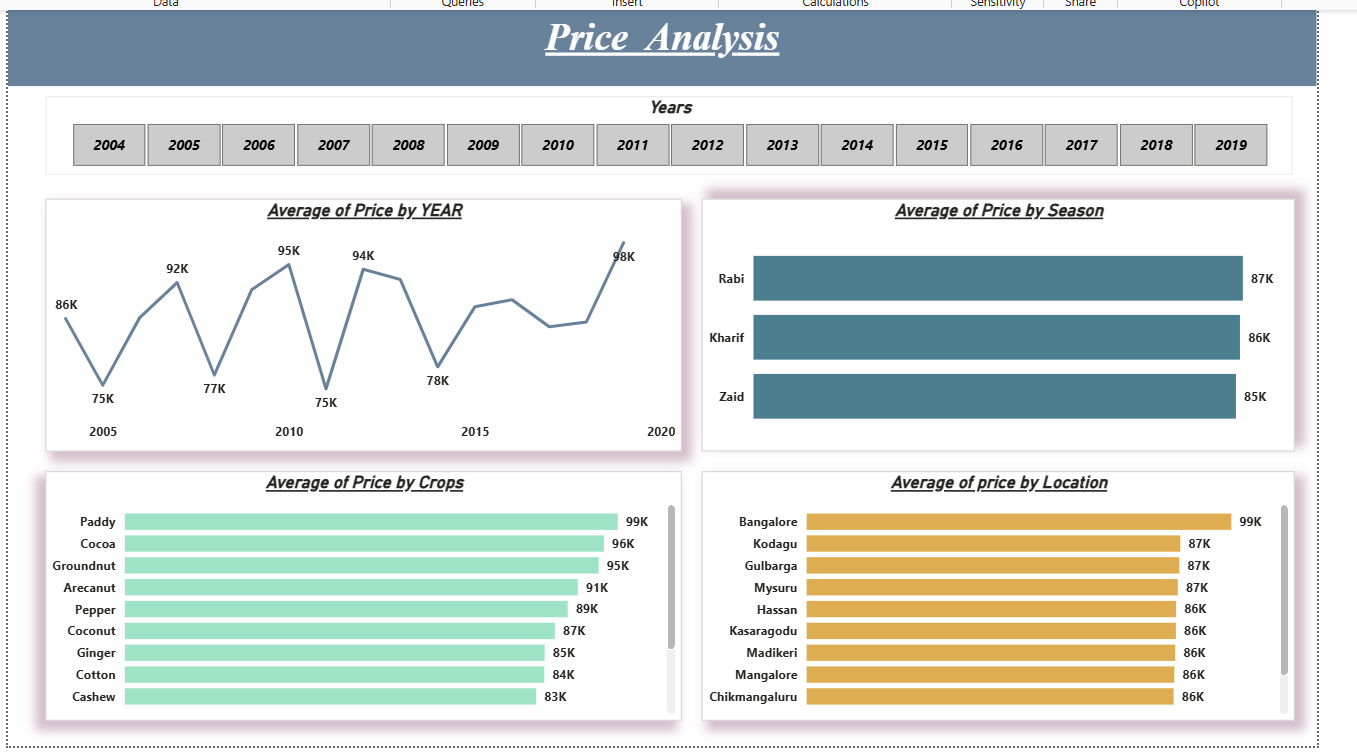

What the dashboard file says about the page in this screenshot:
{"tool":"powerbi","page":{"name":" Price Analysis","canvas":[1280,720],"ordinal":4},"visuals":[{"type":"textbox","box":[9.6,0,1270.7,74.1],"z":0},{"type":"textbox","box":[0,0,1280.3,74.1],"z":1000},{"type":"lineChart","title":"Average of Price  by YEAR","fields":{"Y":["Avg(AGRICULTURE.PRICE)"],"Category":["AGRICULTURE.YEAR"]},"box":[36.9,184.3,622.4,247],"z":2000},{"type":"barChart","title":"Average of Price by Season","fields":{"Category":["AGRICULTURE.SEASON"],"Y":["Avg(AGRICULTURE.PRICE)"]},"box":[678.4,184.3,580.1,247],"z":3000},{"type":"barChart","title":"Average of Price by Crops","fields":{"Category":["AGRICULTURE.CROPS"],"Y":["Avg(AGRICULTURE.PRICE)"]},"box":[36.9,451.8,622.4,244.3],"z":4000},{"type":"barChart","title":"Average of price by Location","fields":{"Category":["AGRICULTURE.LOCATION"],"Y":["Avg(AGRICULTURE.PRICE)"]},"box":[678.4,451.8,580.1,244.3],"z":5000},{"type":"slicer","title":"Years ","fields":{"Values":["AGRICULTURE.YEAR"]},"box":[36.9,84.6,1220.2,76.4],"z":5001}]}

Visuals, with their boxes on the page's 1280x720 design canvas (x1, y1, x2, y2). These are canvas units, not pixel positions in the 1357x756 screenshot, which may show the page scaled, cropped or inside an application window:
textbox: {"x1": 10, "y1": 0, "x2": 1280, "y2": 74}
textbox: {"x1": 0, "y1": 0, "x2": 1280, "y2": 74}
"Average of Price  by YEAR" lineChart: {"x1": 37, "y1": 184, "x2": 659, "y2": 431}
"Average of Price by Season" barChart: {"x1": 678, "y1": 184, "x2": 1258, "y2": 431}
"Average of Price by Crops" barChart: {"x1": 37, "y1": 452, "x2": 659, "y2": 696}
"Average of price by Location" barChart: {"x1": 678, "y1": 452, "x2": 1258, "y2": 696}
"Years " slicer: {"x1": 37, "y1": 85, "x2": 1257, "y2": 161}
